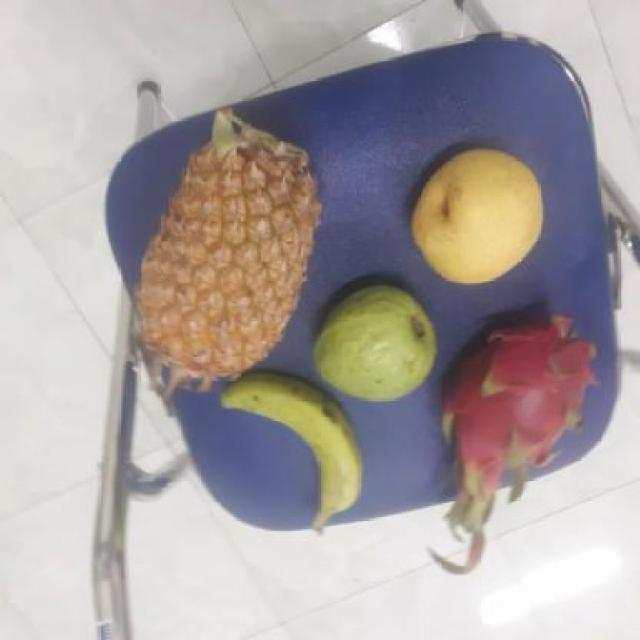dragon fruit: (437, 307, 591, 498)
guava: (309, 278, 436, 405)
pear: (402, 149, 548, 286)
pineapple: (119, 115, 315, 390)
